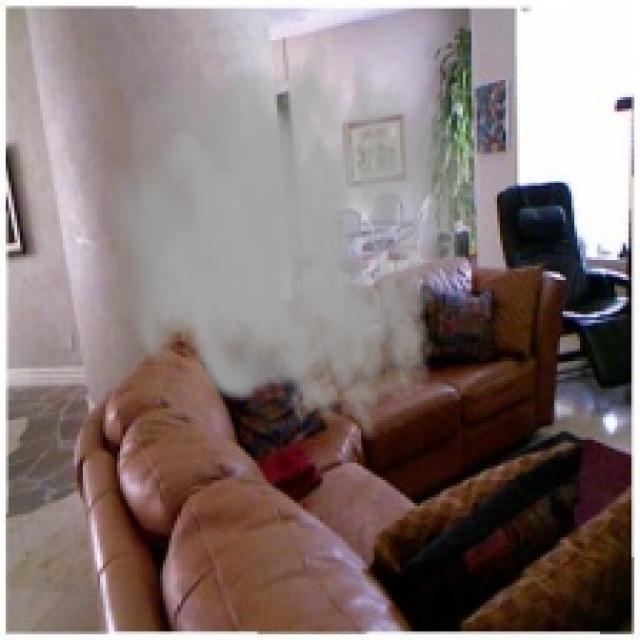Smoke: (106, 12, 477, 437)
